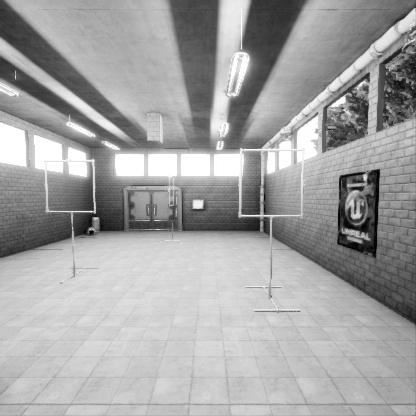gate: (241, 201, 311, 270), (50, 205, 102, 256), (168, 211, 174, 241)
